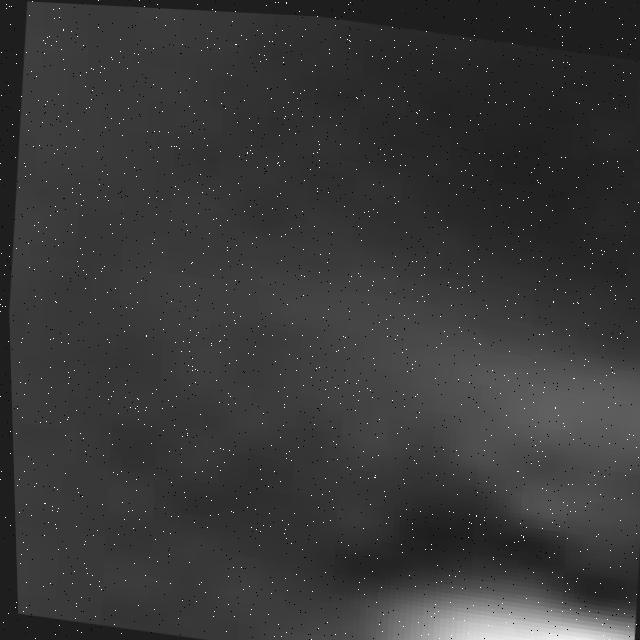person: (313, 303, 640, 536), (289, 580, 633, 640)
